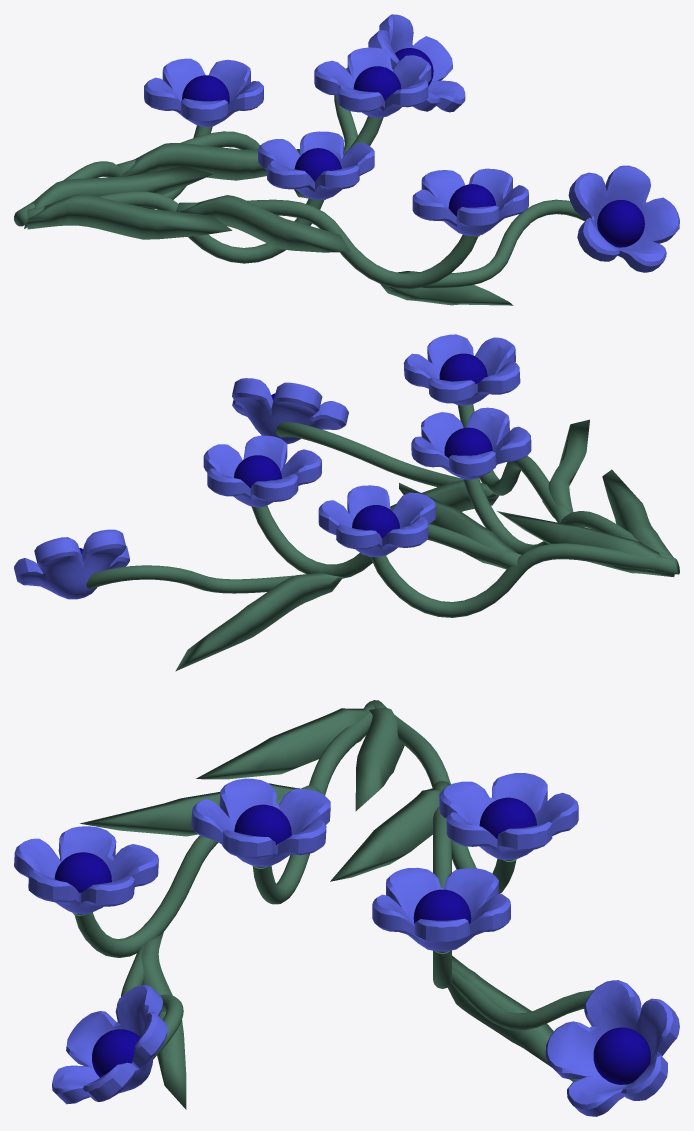
The model's file is 3dflowewr.fbx.
The picture shows the model from 3 angles, top to bottom: view 1: azimuth 30°, elevation 25°; view 2: azimuth 150°, elevation 25°; view 3: azimuth 270°, elevation 25°; orthographic projection. The views are drawn at different scales.
Parts seen in each view (by area): view 1: BezierCurve.005, Flower.003, Sphere.003; view 2: BezierCurve.005, Flower.003, Sphere.003; view 3: Flower.003, BezierCurve.005, Sphere.003.
Boxes of the visible parts, <box> form: BezierCurve.005: <box>14,67,585,305</box>; Flower.003: <box>144,14,679,272</box>; Sphere.003: <box>182,48,644,247</box>; BezierCurve.005: <box>86,404,679,671</box>; Flower.003: <box>14,334,531,599</box>; Sphere.003: <box>79,353,492,553</box>; Flower.003: <box>14,773,679,1116</box>; BezierCurve.005: <box>73,700,629,1109</box>; Sphere.003: <box>54,797,650,1084</box>.
Bounding box in the file's own units: 1913 × 574 × 1670.
